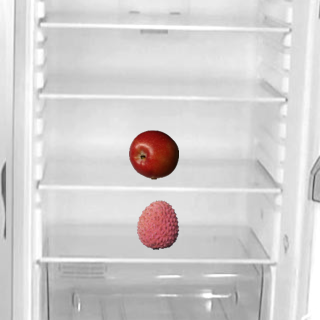Apple Braeburn: (128, 129, 178, 179)
Lychee: (132, 199, 182, 249)
